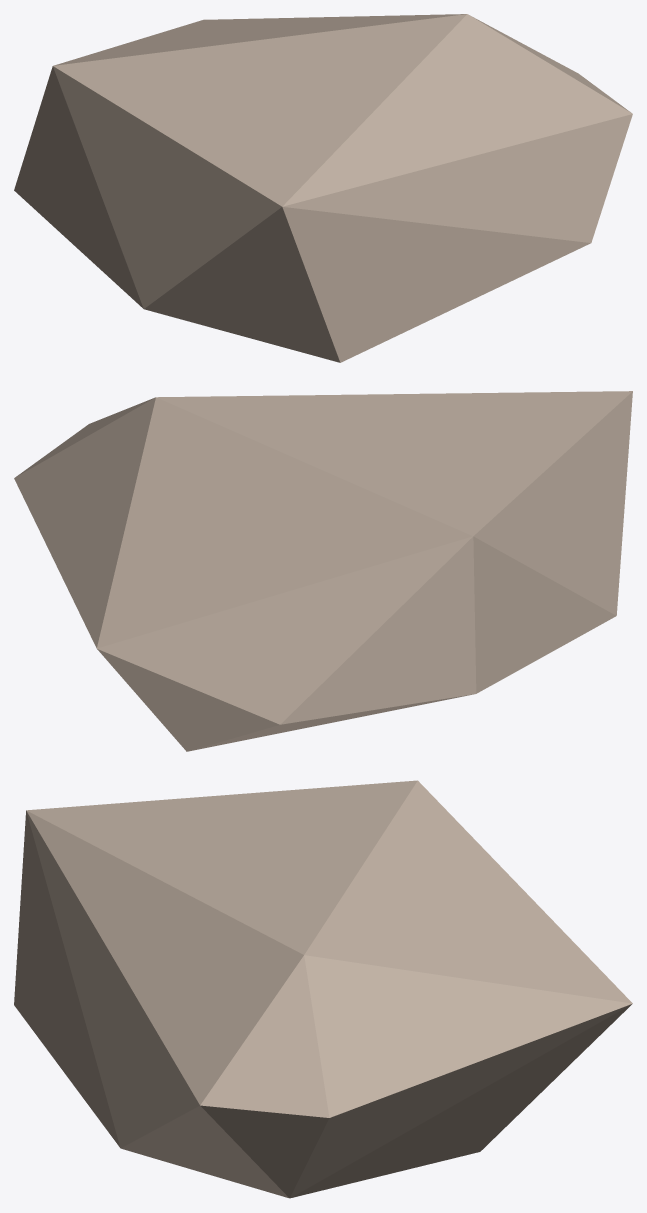
Rendered from LandscapeRock3.glb.
The picture shows the model from 3 angles, top to bottom: view 1: azimuth 30°, elevation 25°; view 2: azimuth 150°, elevation 25°; view 3: azimuth 270°, elevation 25°; orthographic projection. The views are drawn at different scales.
Parts seen in each view (by area): view 1: LandscapeRock3; view 2: LandscapeRock3; view 3: LandscapeRock3.
Boxes of the visible parts, x1,y1,x2,y2 form: LandscapeRock3: [14, 14, 632, 362]; LandscapeRock3: [14, 391, 632, 751]; LandscapeRock3: [14, 780, 632, 1198].
Bounding box in the file's own units: 1.08 × 0.5051 × 1.11.
